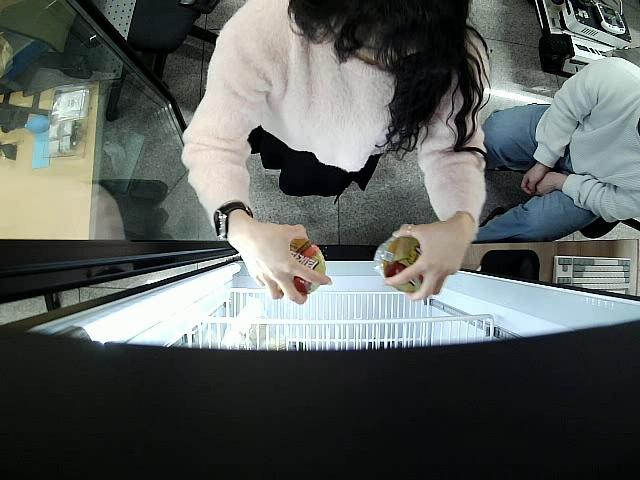00_hand: (230, 218, 334, 304), (383, 220, 475, 304)
04_chapagetti_S: (375, 233, 423, 295), (289, 236, 327, 295)
